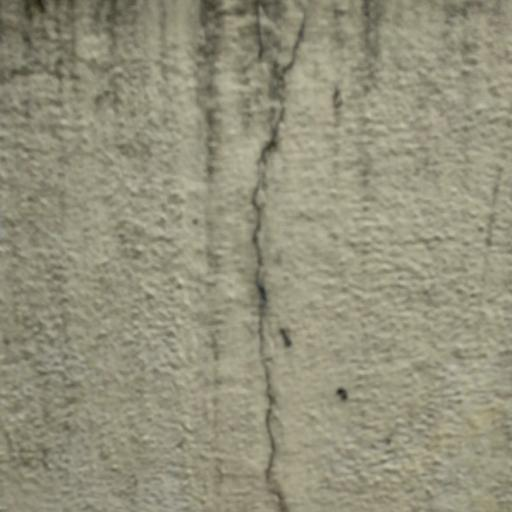minor_crack: (210, 5, 346, 509)
